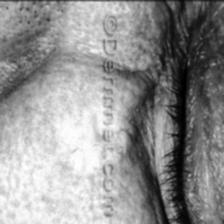Potentially Malignant Skin Tumors: (59, 114, 108, 186)
